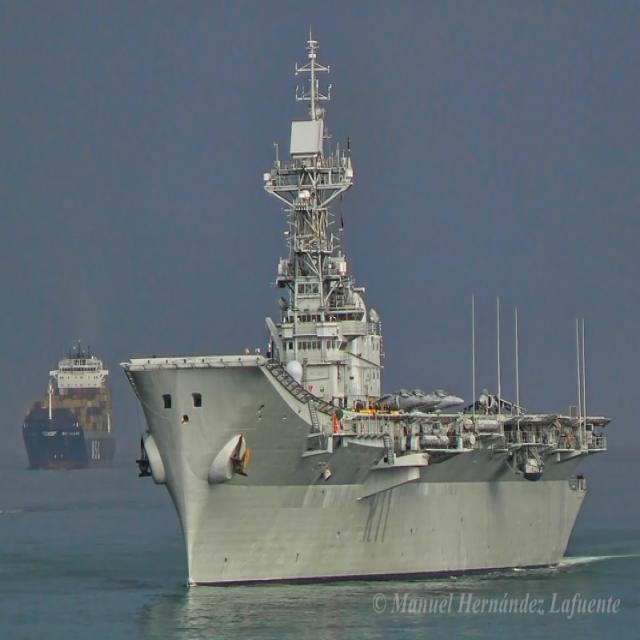Portanaves: (118, 21, 615, 596)
